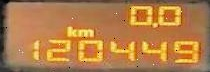-: (151, 22, 156, 27)
0: (75, 38, 102, 61), (155, 5, 180, 25), (127, 5, 151, 25)
1: (30, 39, 40, 60)
2: (44, 38, 69, 61)
4: (139, 39, 166, 61), (108, 38, 133, 61)
9: (171, 39, 198, 62)
X: (75, 28, 92, 36), (65, 25, 75, 36)
